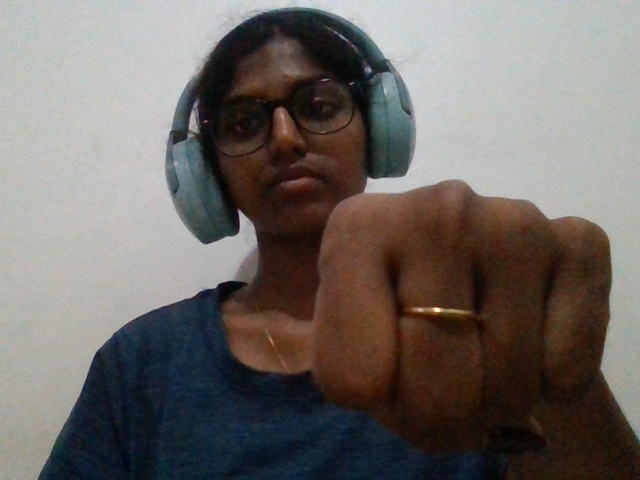Yes: (297, 171, 640, 454)
